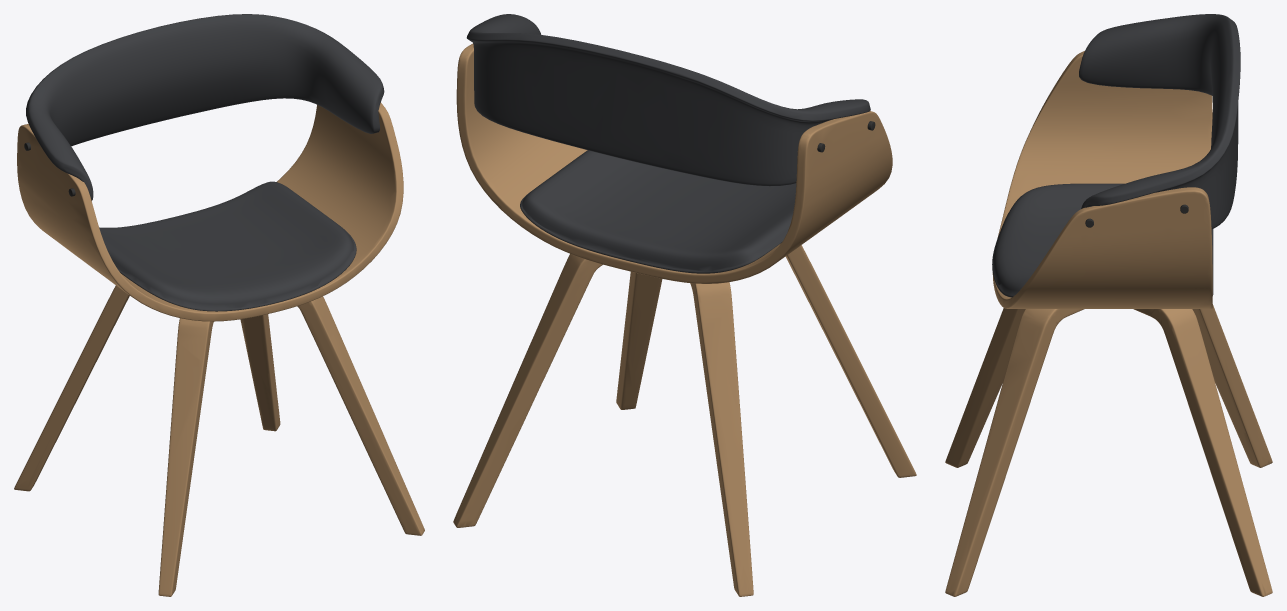
Rendered from chair-shell.glb.
3 views of the same model, side by side, from view 1: azimuth 30°, elevation 25°; view 2: azimuth 150°, elevation 25°; view 3: azimuth 270°, elevation 25° (orthographic). The views are drawn at different scales.
Visible parts, largest first — view 1: Cube; view 2: Cube; view 3: Cube.
Part boxes in pixels (<box>): Cube: <box>14,14,424,596</box>; Cube: <box>453,14,916,596</box>; Cube: <box>945,14,1272,596</box>.
Bounding box in the file's own units: 0.6234 × 0.8 × 0.5054.
